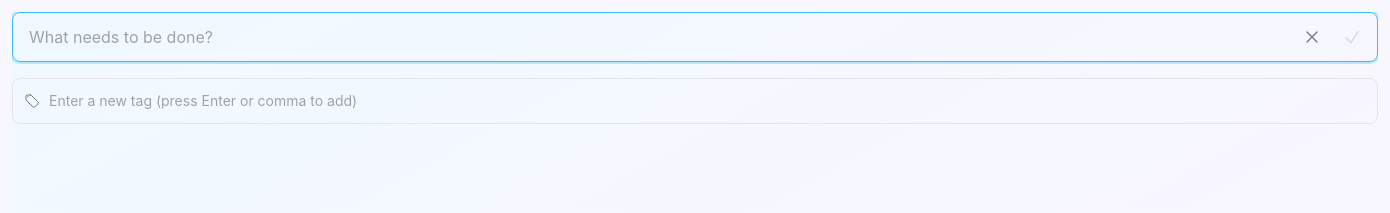
GlobalTaskForm Component › removes a tag when remove button is clicked
// First add a tag
In the field with test id "tag-input": (695, 101) top-left (12, 78), bottom-right (1378, 124), type "tag-to-remove"
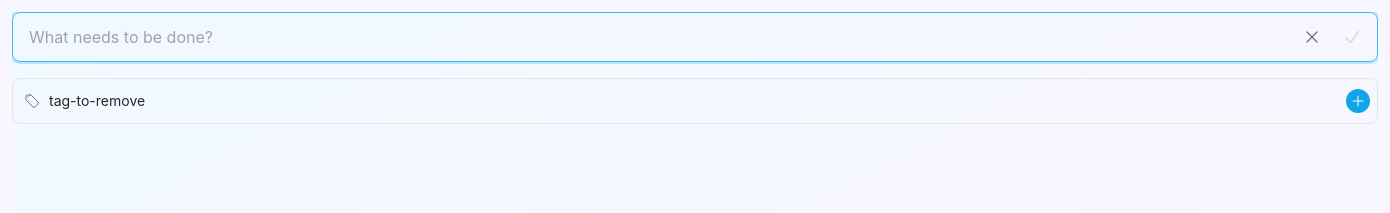
Press Enter in the field with test id "tag-input", box top-left (12, 78), bottom-right (1378, 124)
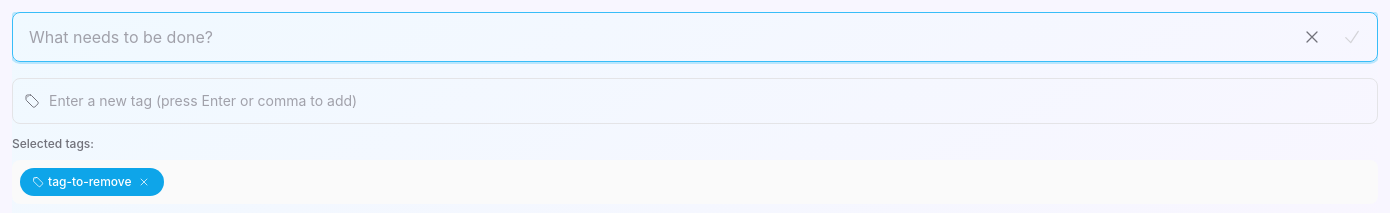
// Then remove it
Click the button with test id "remove-tag-tag-to-remove": (144, 182) top-left (136, 174), bottom-right (152, 190)
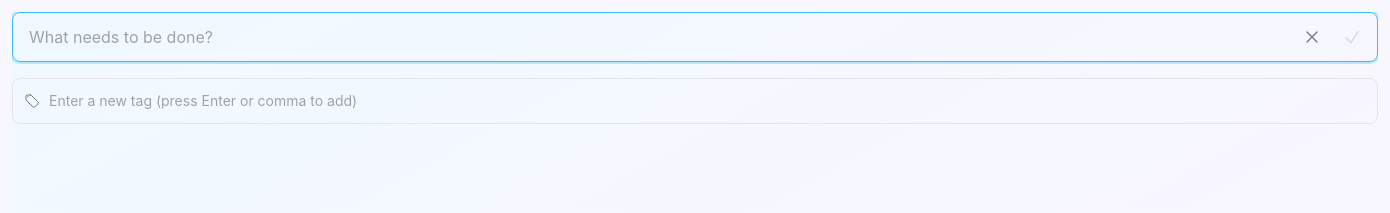
Check: the text "tag-to-remove" is gone
Check: the element with test id "selected-tags" is gone
